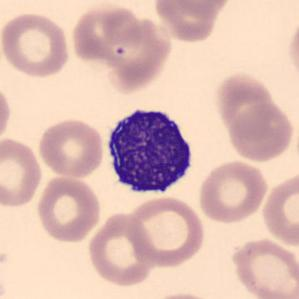Lymphocyte: (101, 100, 199, 201)
RBC: (124, 194, 206, 269), (85, 210, 156, 288), (70, 2, 150, 69), (0, 9, 72, 79), (34, 174, 103, 245), (196, 158, 269, 225), (212, 69, 276, 142), (36, 116, 106, 180), (228, 236, 298, 299), (226, 102, 296, 163), (150, 0, 230, 43), (0, 135, 44, 210), (260, 169, 298, 249), (160, 0, 234, 18), (285, 15, 299, 83), (0, 81, 13, 148), (145, 290, 225, 299)
